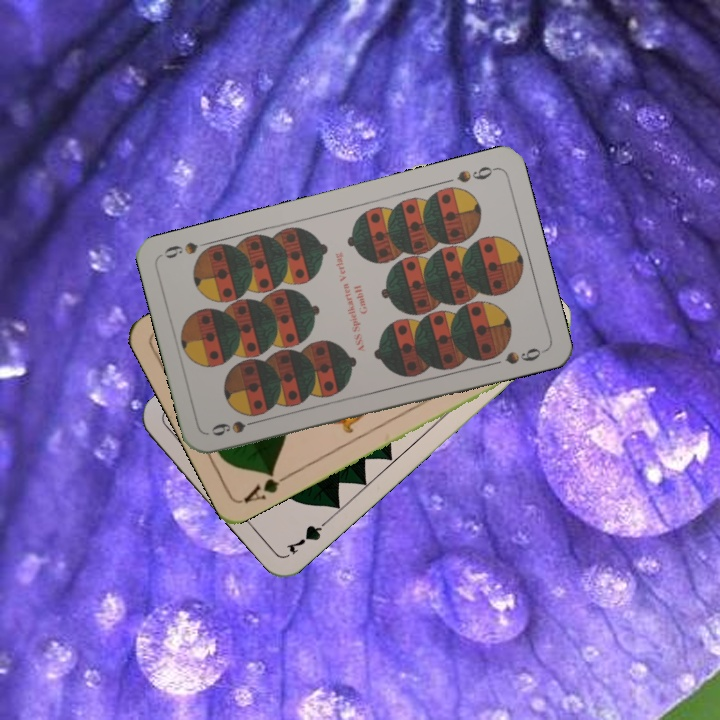G7: (282, 513, 334, 558)
GA: (239, 466, 293, 506)
S9: (207, 415, 265, 439), (453, 162, 499, 186)
